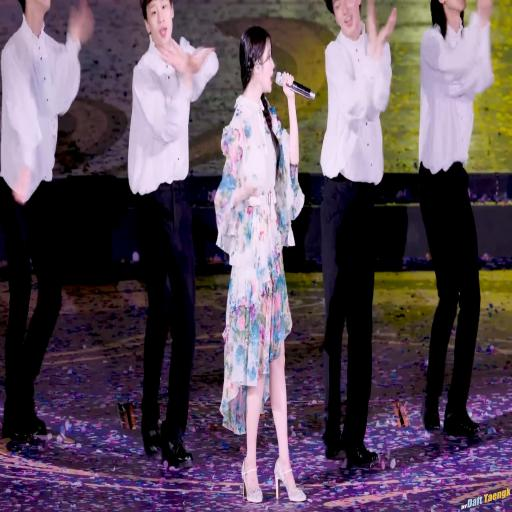IU: (239, 26, 275, 95)
